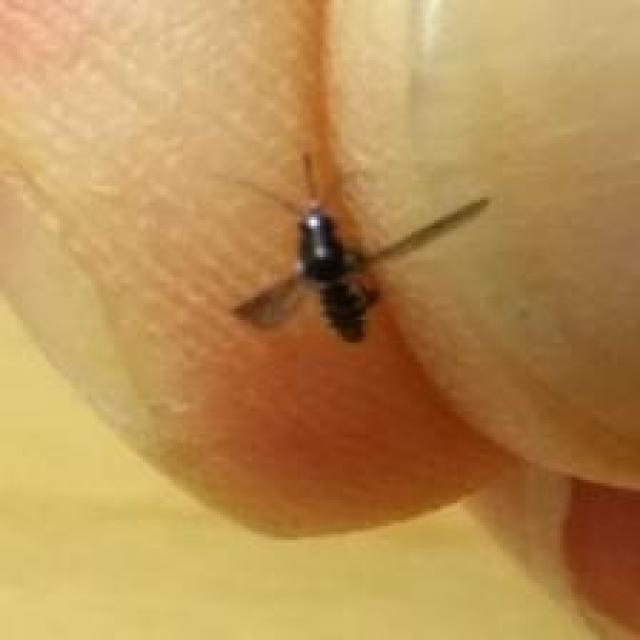Aedes albopictus: (230, 191, 490, 346)
